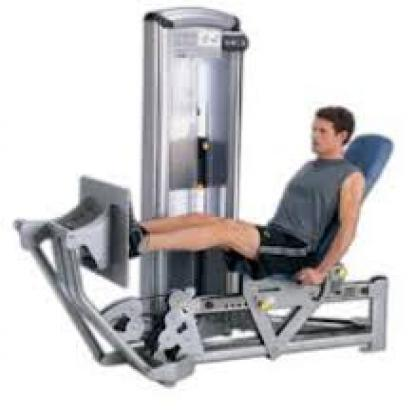leg press: (9, 3, 406, 391)
